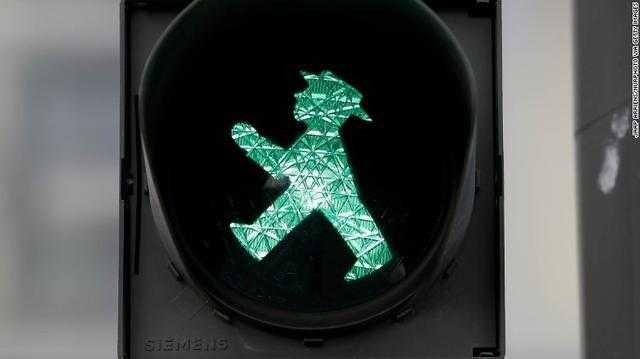green: (167, 7, 457, 323)
